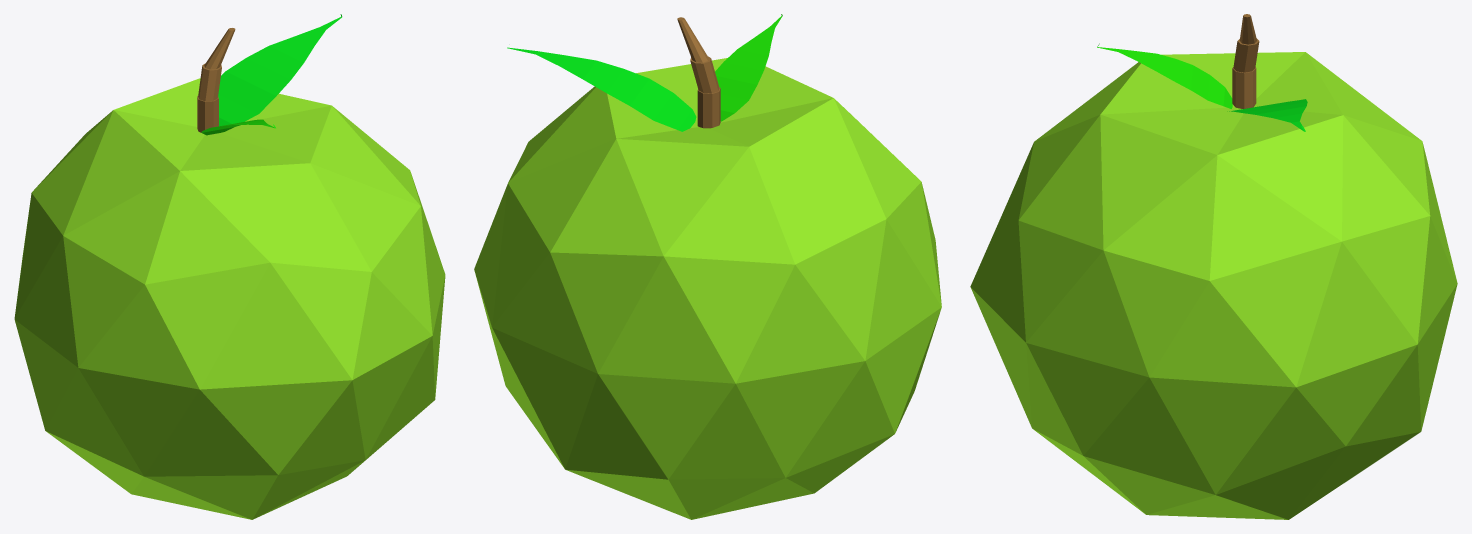
The model's file is Green Apple.glb.
3 views of the same model, side by side, from view 1: azimuth 30°, elevation 25°; view 2: azimuth 150°, elevation 25°; view 3: azimuth 270°, elevation 25° (orthographic). The views are drawn at different scales.
Parts seen in each view (by area): view 1: Icosphere; view 2: Icosphere; view 3: Icosphere.
Boxes of the visible parts, x1,y1,x2,y2 form: Icosphere: (14,14,445,519); Icosphere: (474,14,941,519); Icosphere: (970,14,1457,519).
Bounding box in the file's own units: 1.91 × 2.26 × 2.02.
